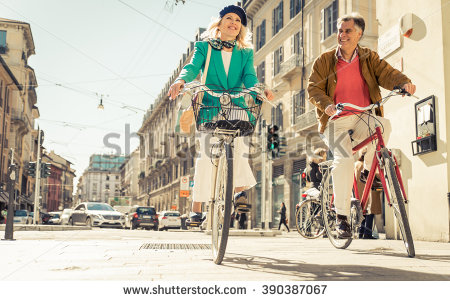bikerider: (157, 4, 283, 272), (306, 13, 429, 269)
